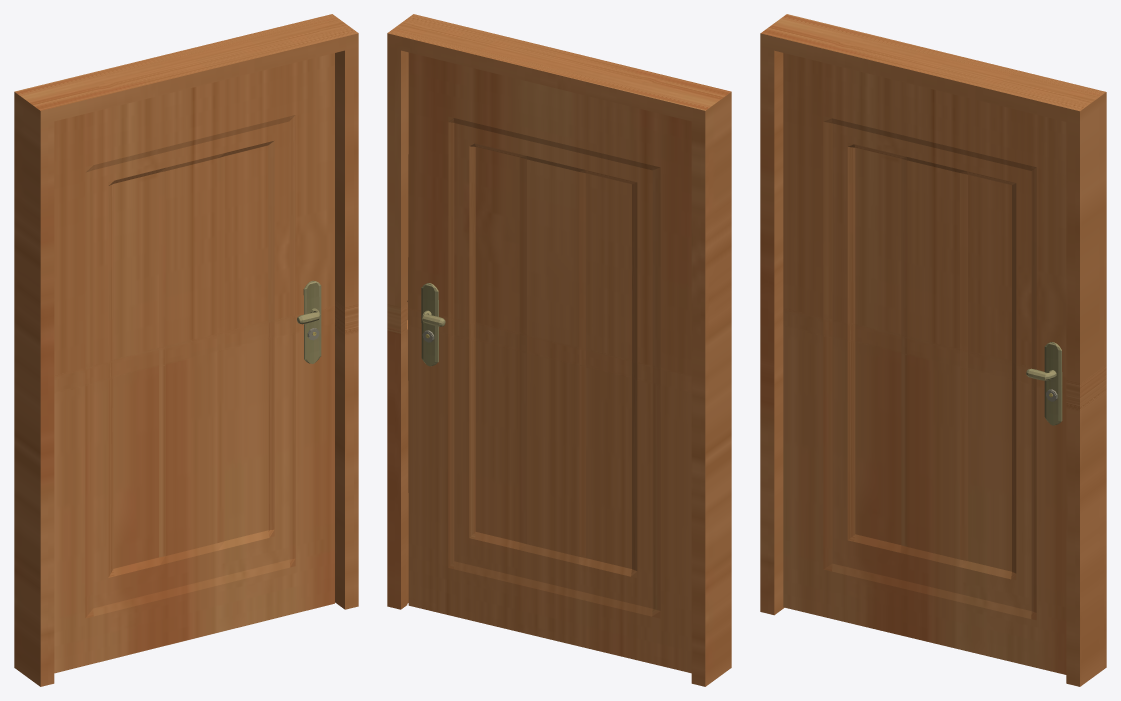
Rendered from plc0012-student-Door.glb.
3 views of the same model, side by side, from view 1: azimuth 30°, elevation 25°; view 2: azimuth 150°, elevation 25°; view 3: azimuth 330°, elevation 25° (orthographic).
Visible parts, largest first — view 1: DoorBoddy_Cube.001, OutBoddy_Cube.002, Locker.001_Cube.004; view 2: DoorBoddy_Cube.001, OutBoddy_Cube.002, Locker_Cube.003; view 3: DoorBoddy_Cube.001, OutBoddy_Cube.002, Locker.001_Cube.004.
Part boxes in pixels (x1,y1,x2,y2): DoorBoddy_Cube.001: [54, 53, 334, 673]; OutBoddy_Cube.002: [14, 14, 358, 686]; Locker.001_Cube.004: [303, 280, 321, 363]; DoorBoddy_Cube.001: [408, 52, 691, 673]; OutBoddy_Cube.002: [387, 14, 731, 686]; Locker_Cube.003: [421, 283, 438, 366]; DoorBoddy_Cube.001: [783, 53, 1066, 674]; OutBoddy_Cube.002: [760, 14, 1106, 686]; Locker.001_Cube.004: [1044, 342, 1062, 425].
Size of what is drawn, in the model's own units: 7.18 by 12.42 by 1.09.
Materials: 7 (7 with a texture image).
